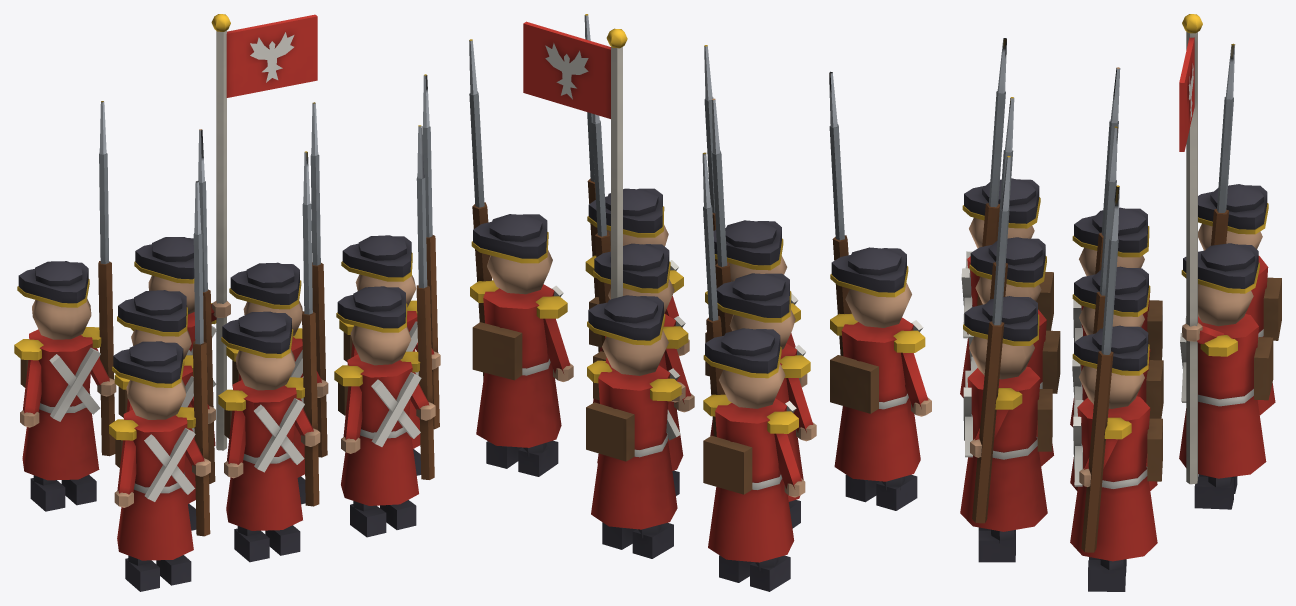
File: squad_dl4_red.glb
3 renders of one model, left to right at view 1: azimuth 30°, elevation 25°; view 2: azimuth 150°, elevation 25°; view 3: azimuth 270°, elevation 25°, orthographic. The views are drawn at different scales.
Visible parts, largest first — view 1: squad_dl4_red; view 2: squad_dl4_red; view 3: squad_dl4_red.
Part boxes in pixels (<box>): squad_dl4_red: <box>14,14,440,591</box>; squad_dl4_red: <box>469,14,931,591</box>; squad_dl4_red: <box>960,14,1281,591</box>.
Bounding box in the file's own units: 0.657 × 0.7866 × 0.4609.
1 material, 1 textured.
